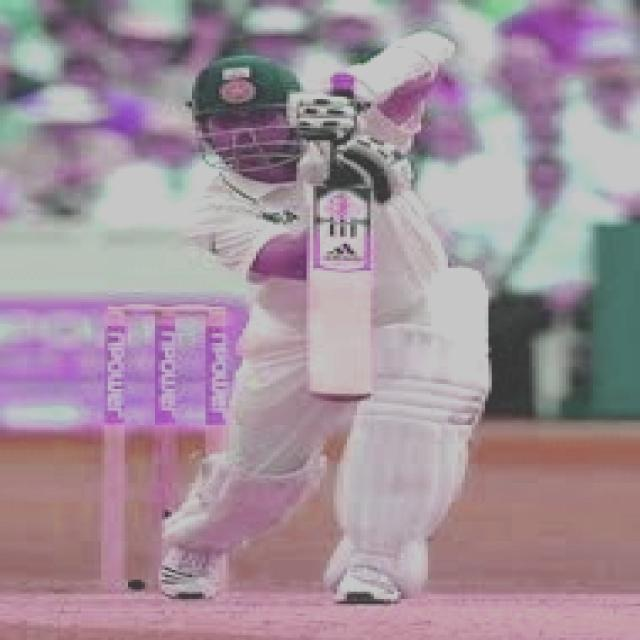bat: (293, 185, 383, 407)
toe: (311, 385, 366, 407)
